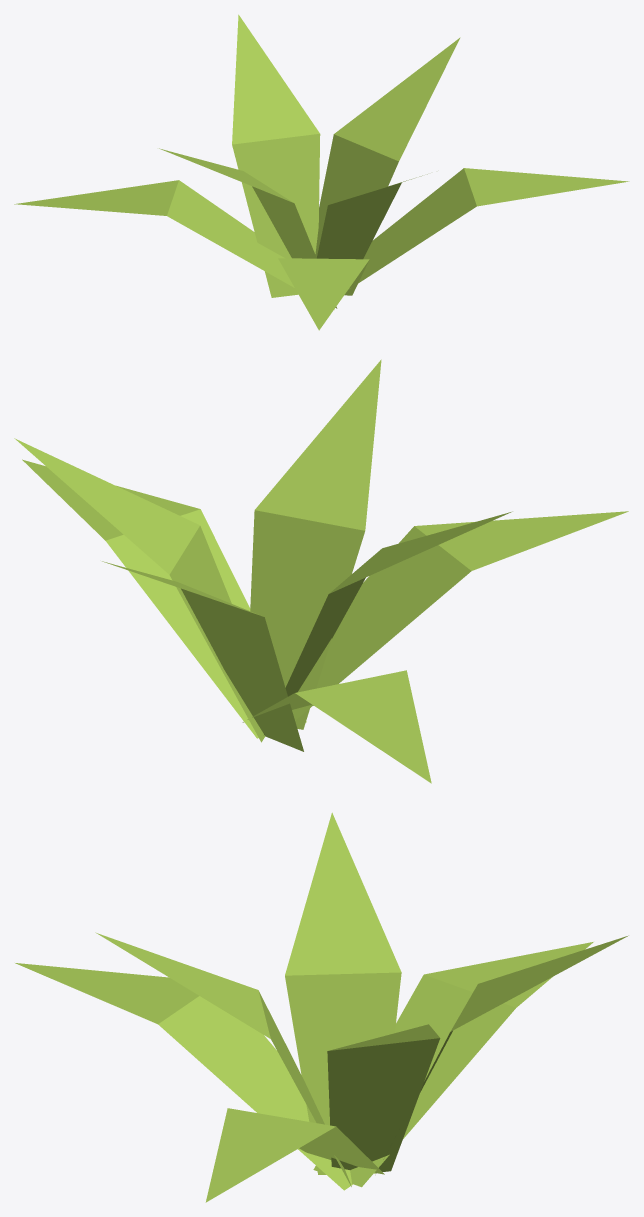
The model's file is grass_04.fbx.
3 views of the same model, one above another, from view 1: azimuth 30°, elevation 25°; view 2: azimuth 150°, elevation 25°; view 3: azimuth 270°, elevation 25° (orthographic). The views are drawn at different scales.
Visible parts, largest first — view 1: grass_04; view 2: grass_04; view 3: grass_04.
Boxes of the visible parts, x1=… form: grass_04: x1=14, y1=14, x2=629, y2=330; grass_04: x1=14, y1=359, x2=628, y2=783; grass_04: x1=15, y1=812, x2=628, y2=1202.
Size of the model in its own units: 43.88 by 18.06 by 39.63.
